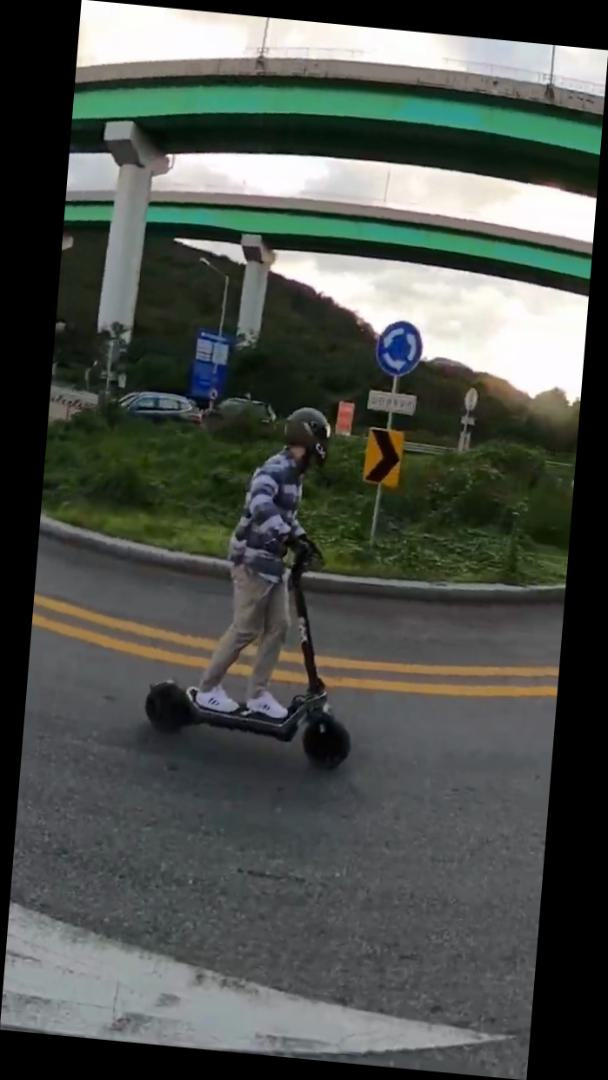helmet: (138, 391, 382, 776)
